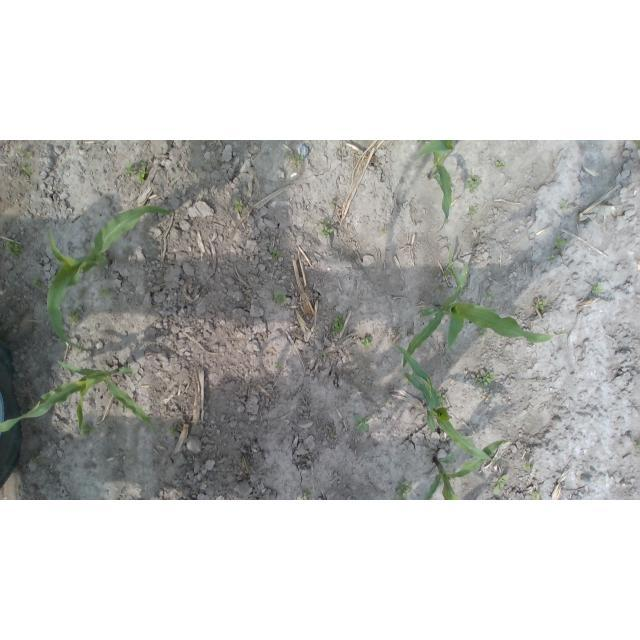Maize: (46, 204, 173, 350), (401, 260, 555, 368), (1, 359, 158, 437), (395, 346, 493, 462), (422, 439, 511, 499), (416, 141, 460, 236)
Weeds: (16, 148, 32, 175), (127, 163, 146, 184), (494, 474, 509, 497), (396, 480, 413, 498), (354, 414, 370, 431), (477, 371, 493, 387), (6, 241, 22, 257), (68, 307, 81, 326), (468, 176, 482, 193), (319, 220, 331, 234), (273, 293, 287, 304), (335, 316, 344, 333), (287, 156, 303, 165), (301, 490, 315, 500), (555, 238, 565, 248), (592, 285, 601, 296), (438, 393, 446, 404), (364, 336, 373, 345), (98, 288, 107, 297), (537, 301, 547, 309), (235, 201, 243, 210), (526, 463, 535, 470), (532, 493, 540, 500), (33, 280, 40, 287), (272, 253, 278, 260), (496, 161, 503, 167), (329, 430, 335, 436), (563, 203, 570, 208)
